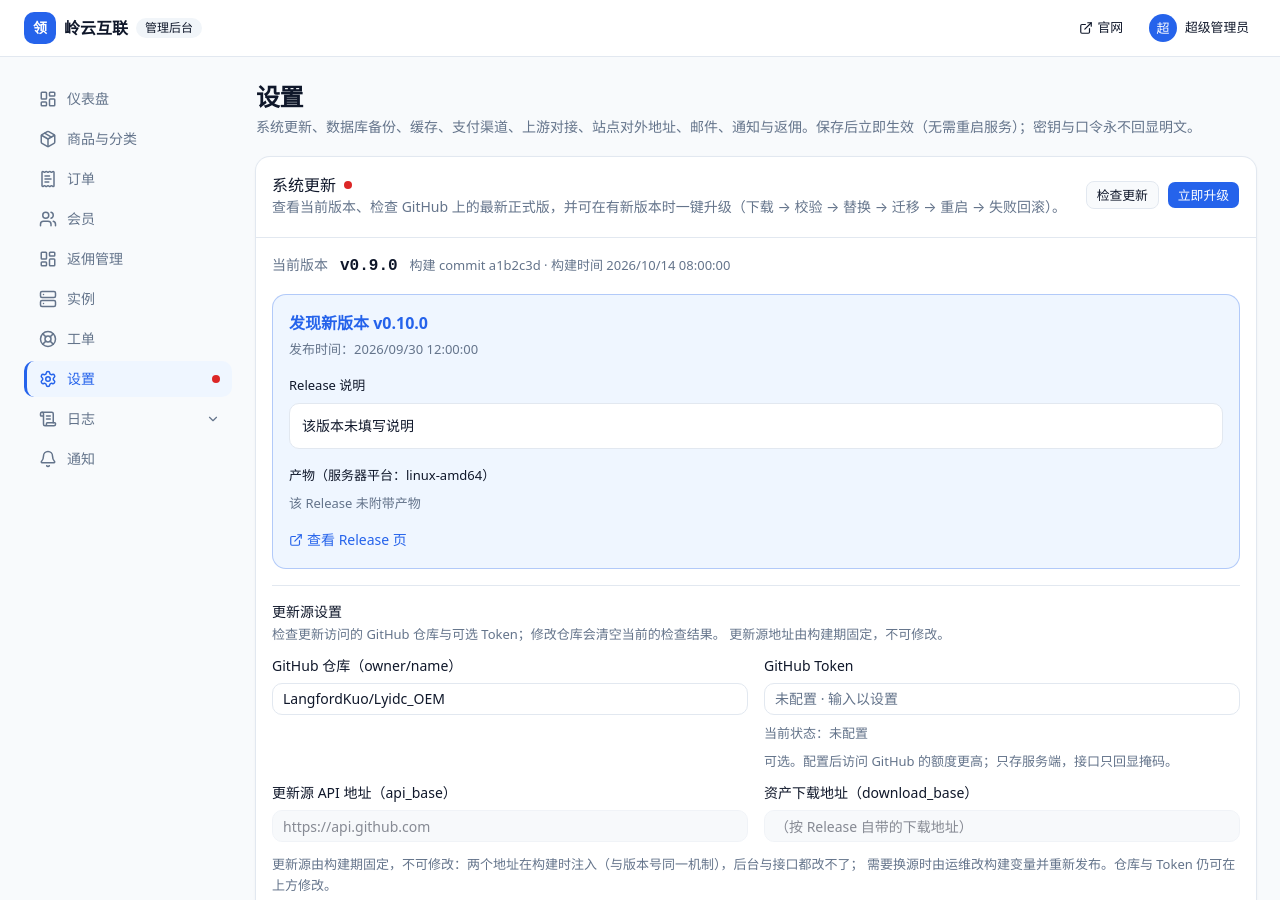
管理后台 · 数据库备份（R14，契约 21） › 升级二次确认弹窗含「建议先备份数据库」提示与锚点链接（R14，契约 20.10 第 6 条）
Expected: the heading "设置" is shown, x1=256 y1=80 x2=303 y2=113
Step 1. Click the button with test id "upgrade-apply-button" → (1203, 195), box x1=1167 y1=181 x2=1240 y2=209
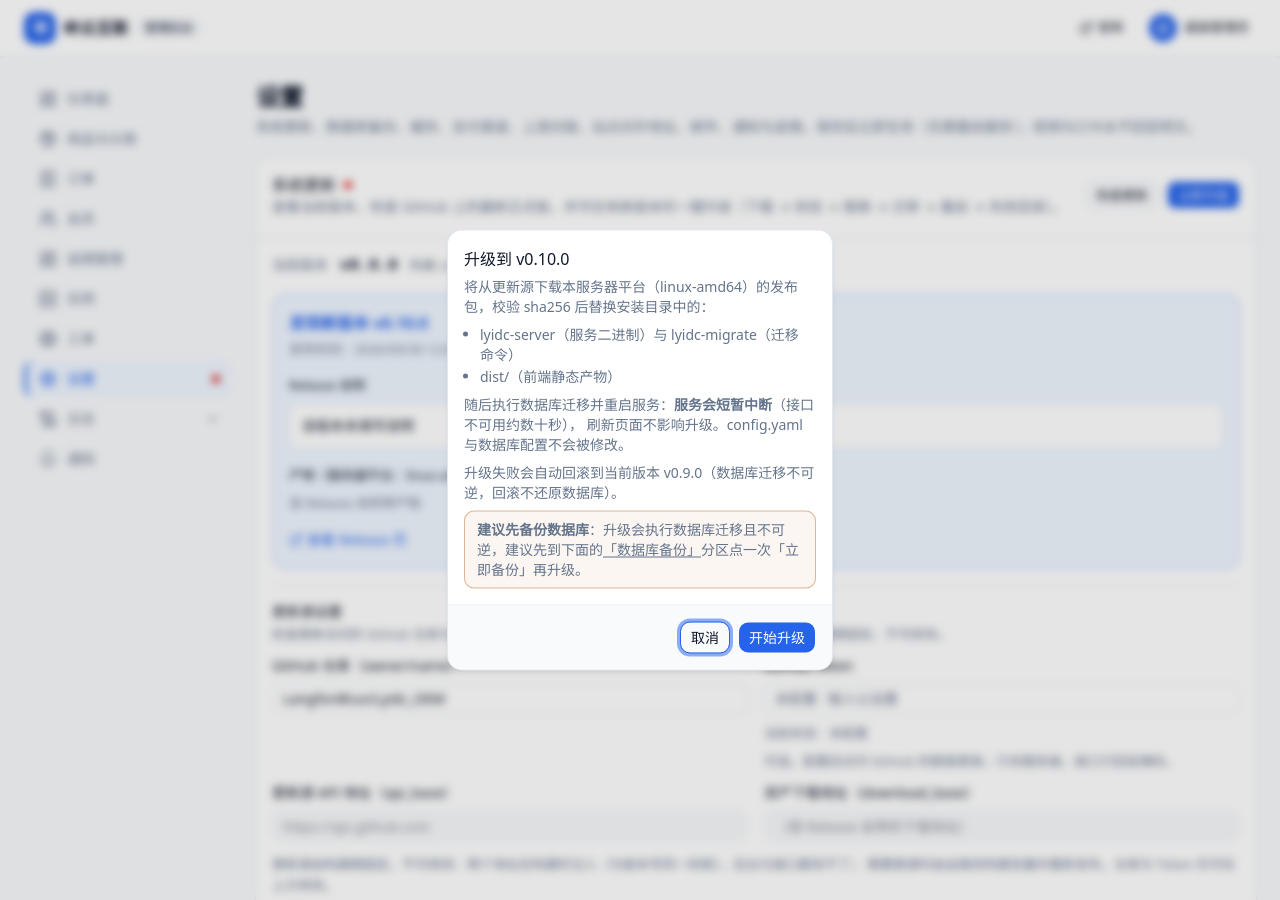
Result: the text "建议先备份数据库" is shown at x1=477 y1=520 x2=589 y2=538
Result: the button "开始升级" is enabled at x1=738 y1=622 x2=816 y2=654
